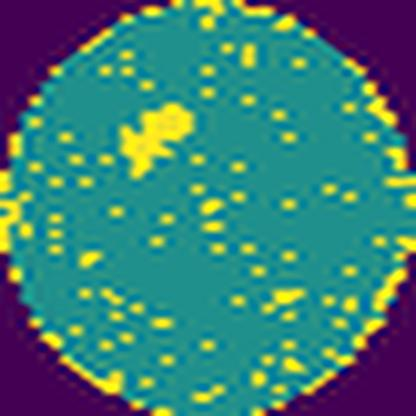Loc: (119, 99, 195, 180)
